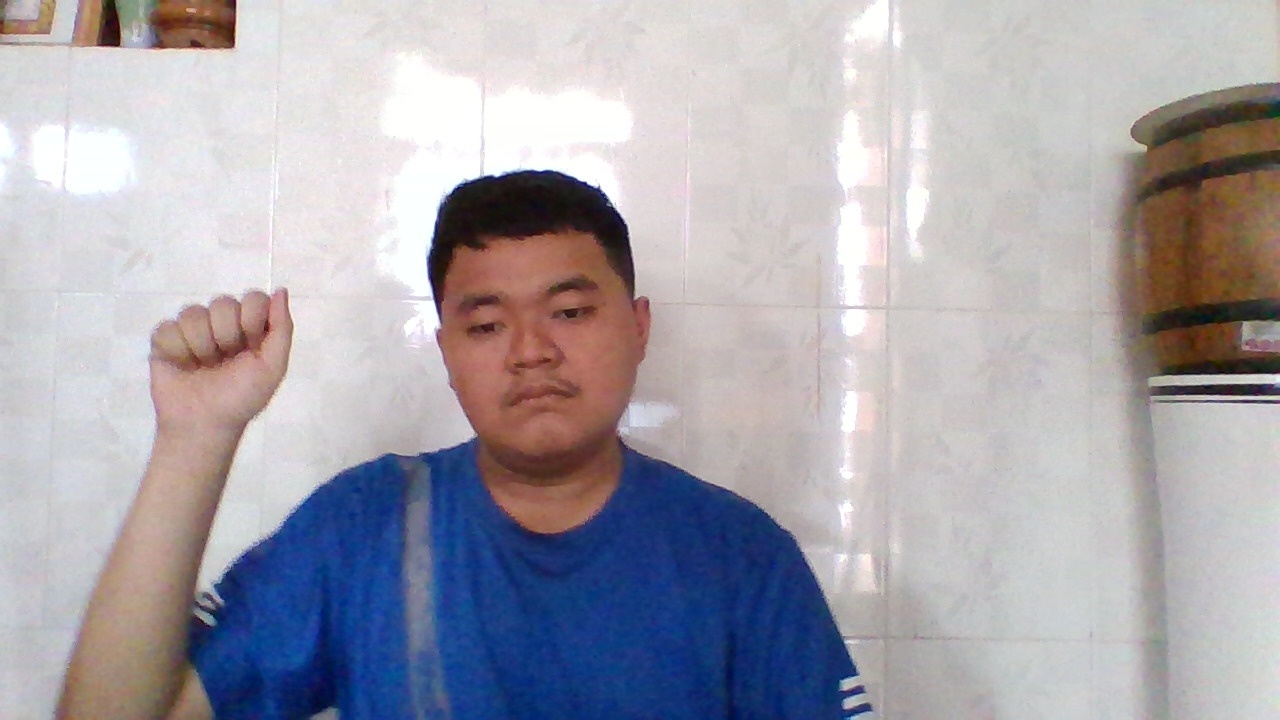A: (151, 278, 301, 439)
